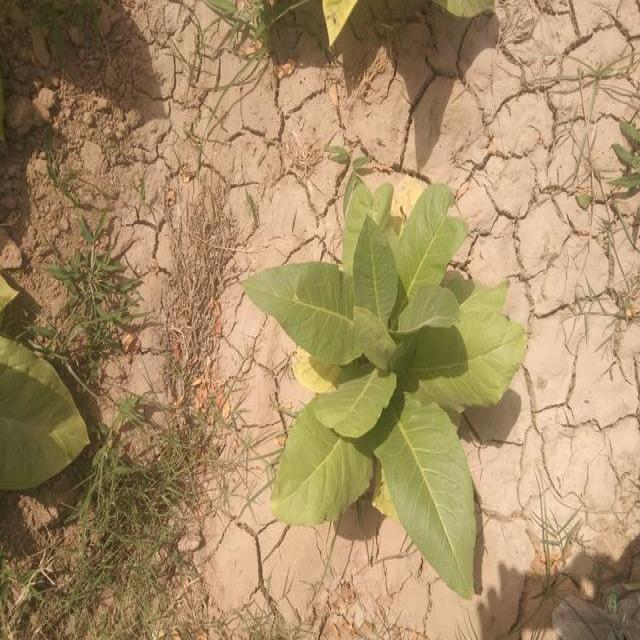crop: (252, 178, 512, 580), (0, 314, 89, 481), (322, 0, 359, 50), (440, 0, 496, 28)
